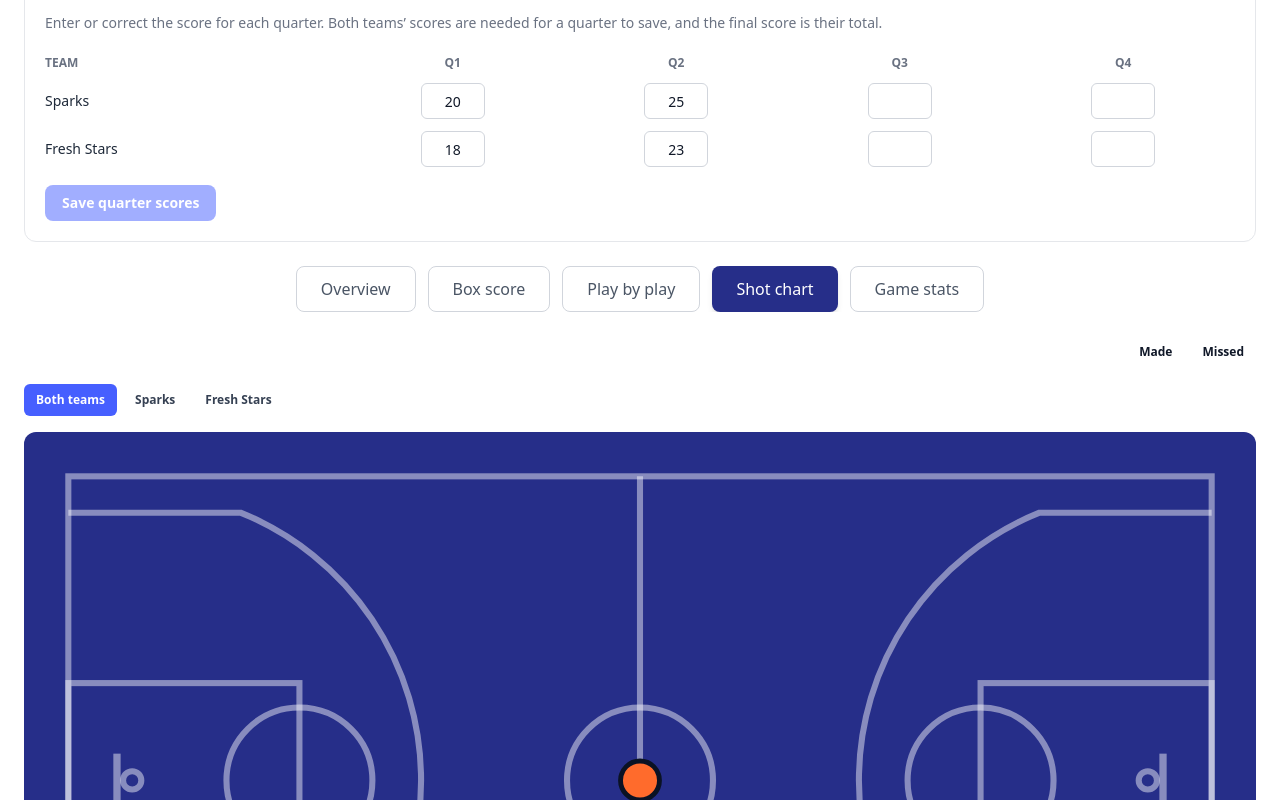
Scenario: Match: overview and game stats (FIBA-style views) › can filter the shot chart down to one team
This screenshot has width=1280, height=800.
(page scrolled)
What coordinates should you click on to do the following:
click the button "Fresh Stars"
I would click on:
 (238, 400)
Its box is x1=193 y1=384 x2=284 y2=416.
(page scrolled)
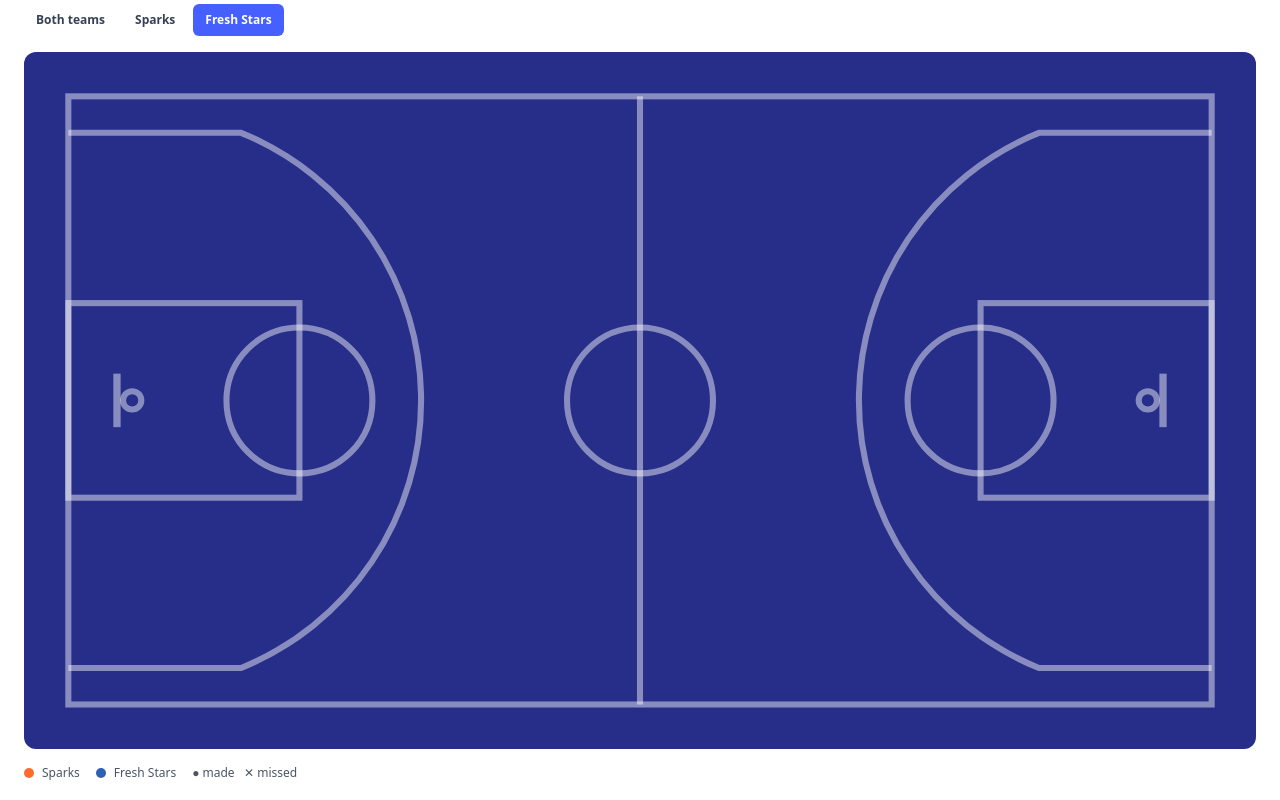
Expected: the picture named "Shot chart: 0 shots shown" is shown
